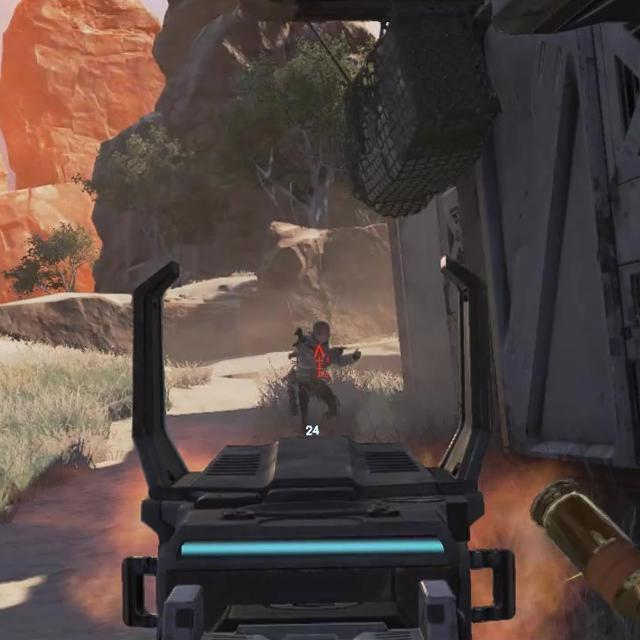avatar: (286, 318, 342, 424)
